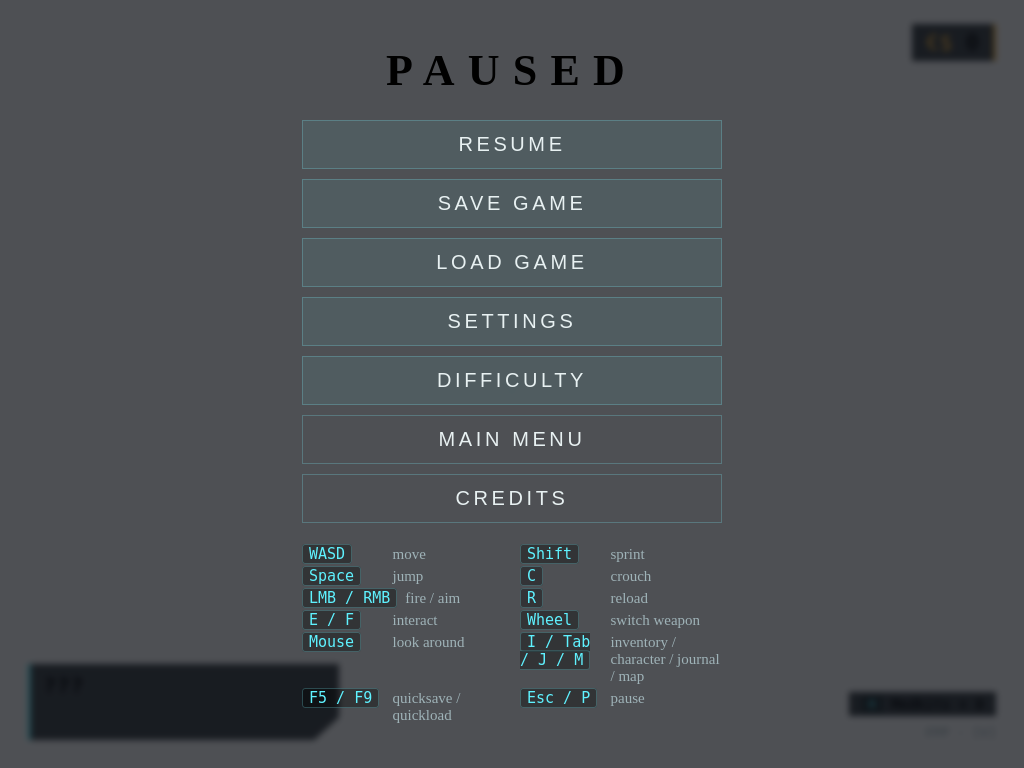
Scenario: language of the menus › offers both languages under their own names in the options and sends the choice
Click the button "Settings": [512, 321] box [302, 296, 722, 346]
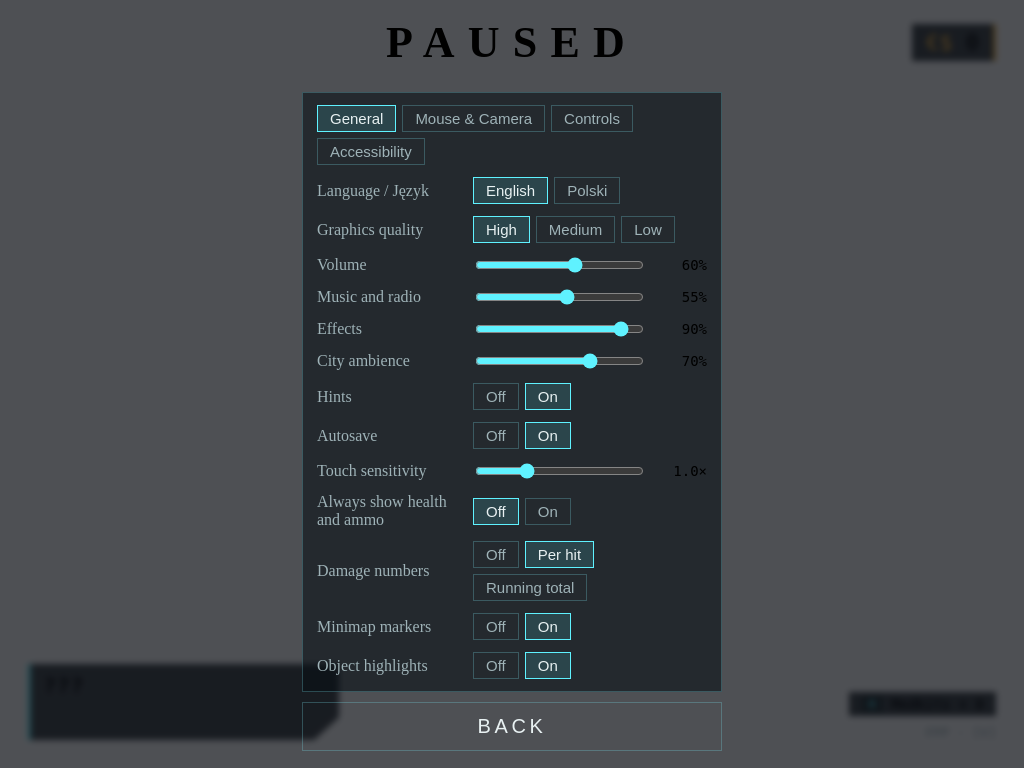
Now the radio buttons read "English", "Polski", in this order
Click the radio button labelled "Polski": [587, 190] box [554, 177, 620, 204]
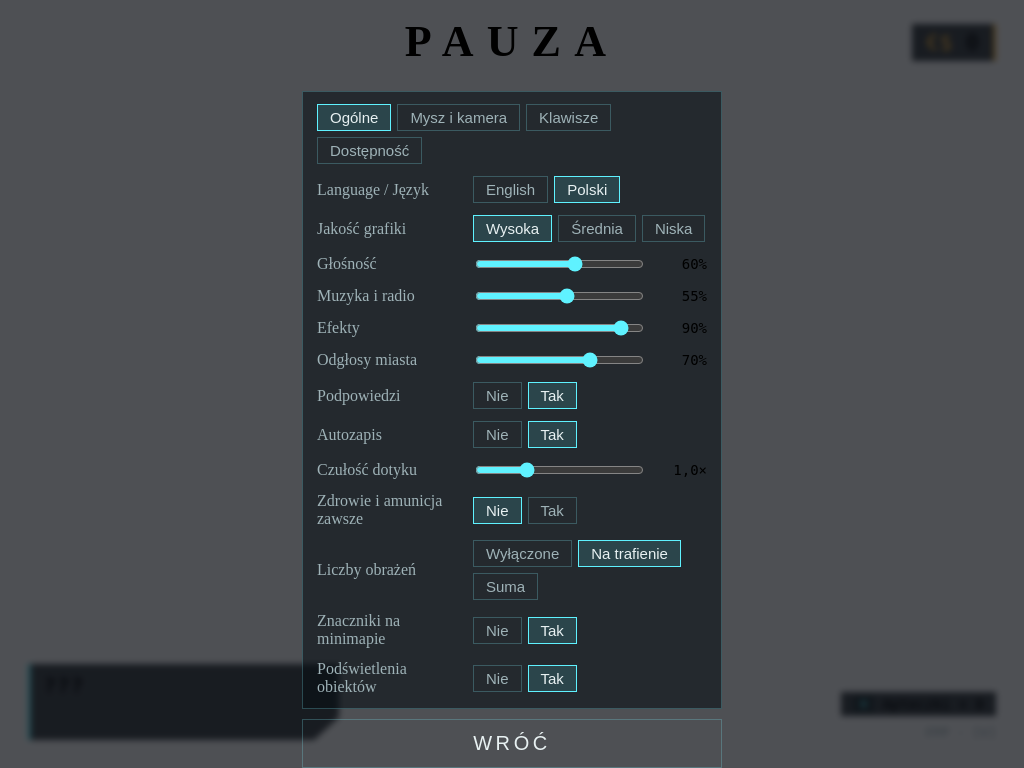
Now the element named "Language / Język" is shown, box [473, 176, 620, 203]
Now the tab "Ogólne" is shown, box [317, 104, 391, 131]
Now the text "1,0×" is shown, box [673, 462, 707, 478]
